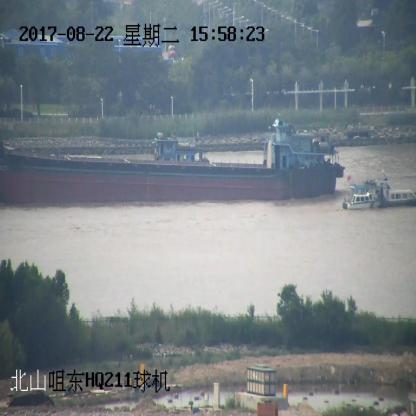Fishing Boat: (341, 176, 416, 210)
